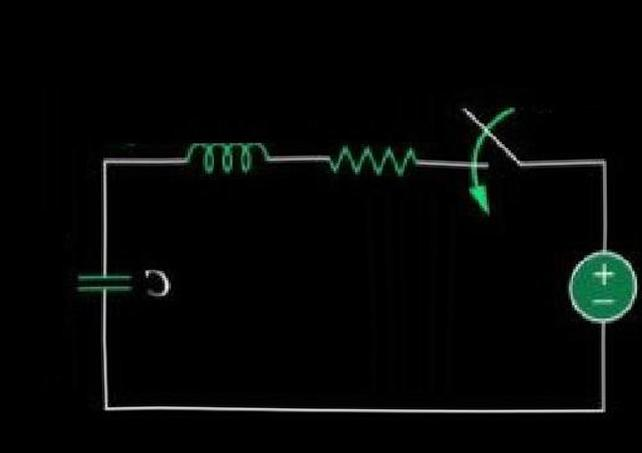Battery: (557, 238, 641, 341)
